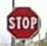stop: (6, 5, 39, 39)
